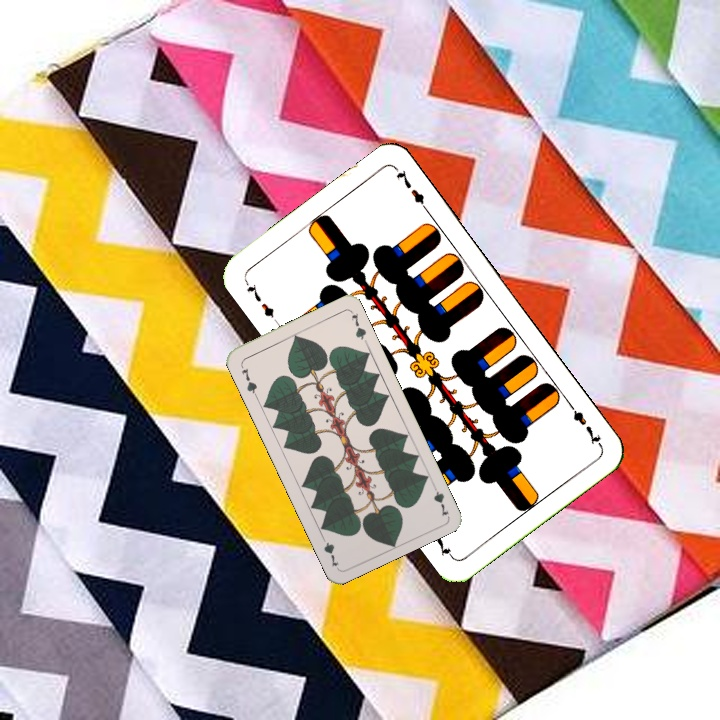E7: (563, 397, 604, 448), (241, 276, 277, 321)
G7: (428, 478, 452, 519), (237, 364, 260, 399)
